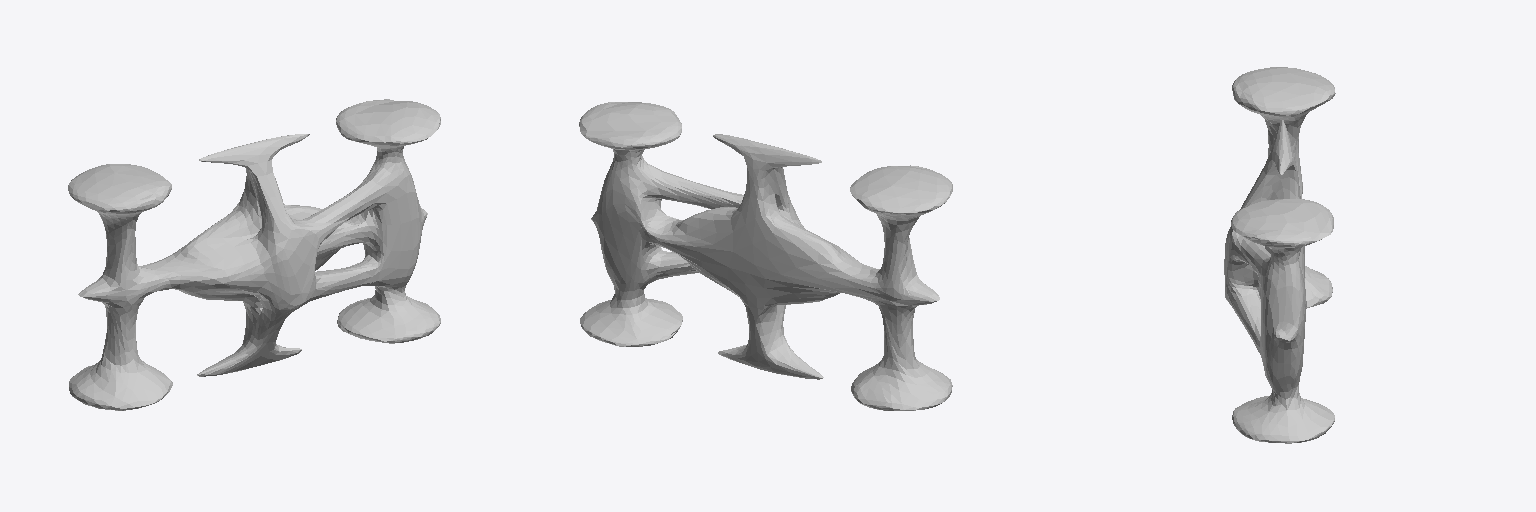
File: car_v2d_for_aos4.obj
The picture shows the model from 3 angles: view 1: azimuth 30°, elevation 25°; view 2: azimuth 150°, elevation 25°; view 3: azimuth 270°, elevation 25°; orthographic projection.
Parts seen in each view (by area): view 1: Object.1; view 2: Object.1; view 3: Object.1.
Boxes of the visible parts, x1,y1,x2,y2 form: Object.1: [68, 99, 440, 410]; Object.1: [579, 102, 952, 410]; Object.1: [1224, 67, 1335, 443].
Size of the model in its own units: 72.09 by 42.96 by 19.3.